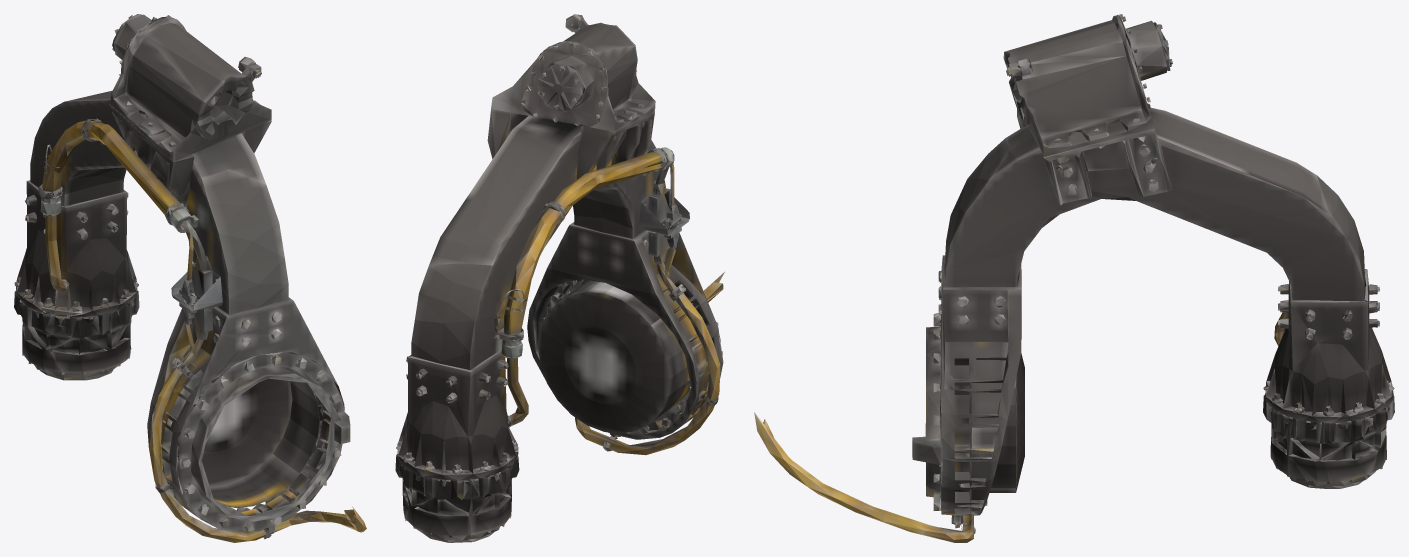
Rendered from steer_rf.obj.
3 views of the same model, side by side, from view 1: azimuth 30°, elevation 25°; view 2: azimuth 150°, elevation 25°; view 3: azimuth 270°, elevation 25° (orthographic). The views are drawn at different scales.
Bounding box in the file's own units: 0.2214 × 0.5578 × 0.6462.
1 material, 1 textured.
